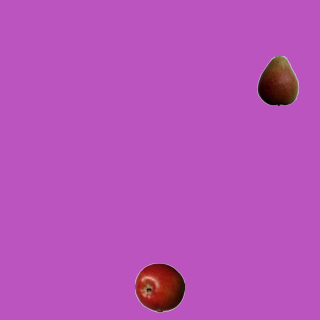Apple Braeburn: (134, 262, 184, 312)
Pear Forelle: (252, 55, 302, 105)
